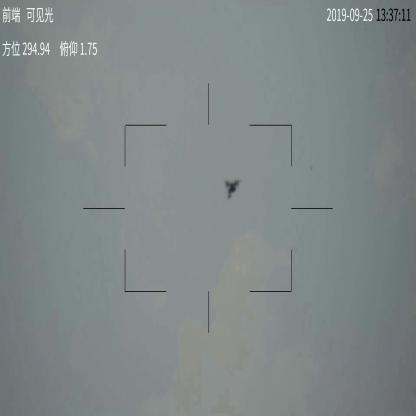uav: (223, 174, 240, 198)
